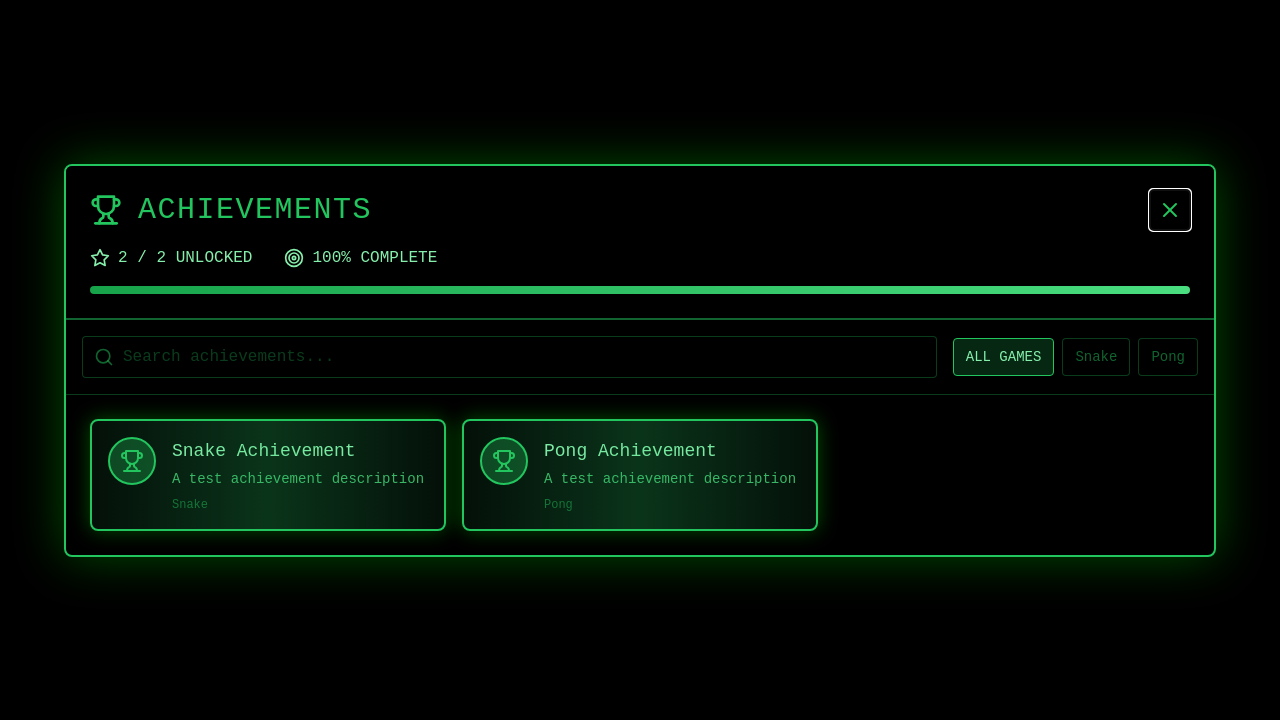
AchievementDisplay › Game Filter › shows all achievements when ALL GAMES clicked
The width and height of the screenshot is (1280, 720).
First filter by Snake
Click the button "Snake": (1096, 356) [1062,338,1130,376]
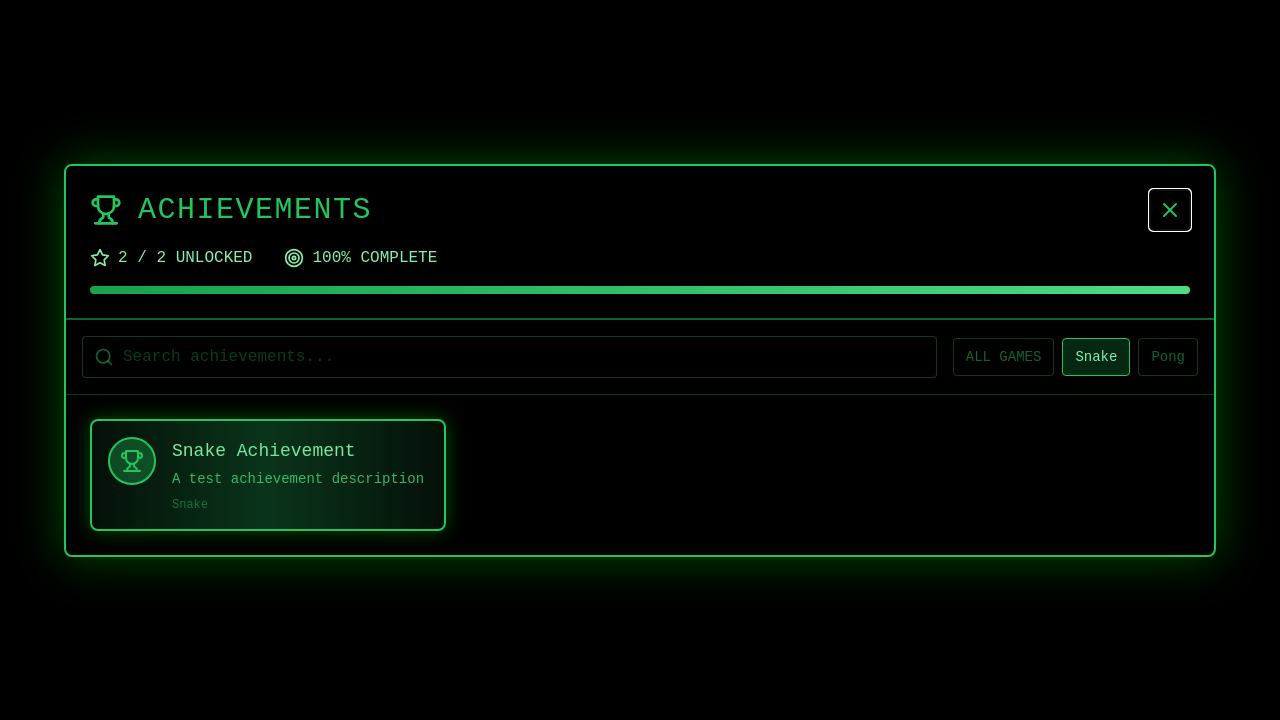
Then click ALL GAMES
Click the button "ALL GAMES": (1004, 356) [953,338,1054,376]
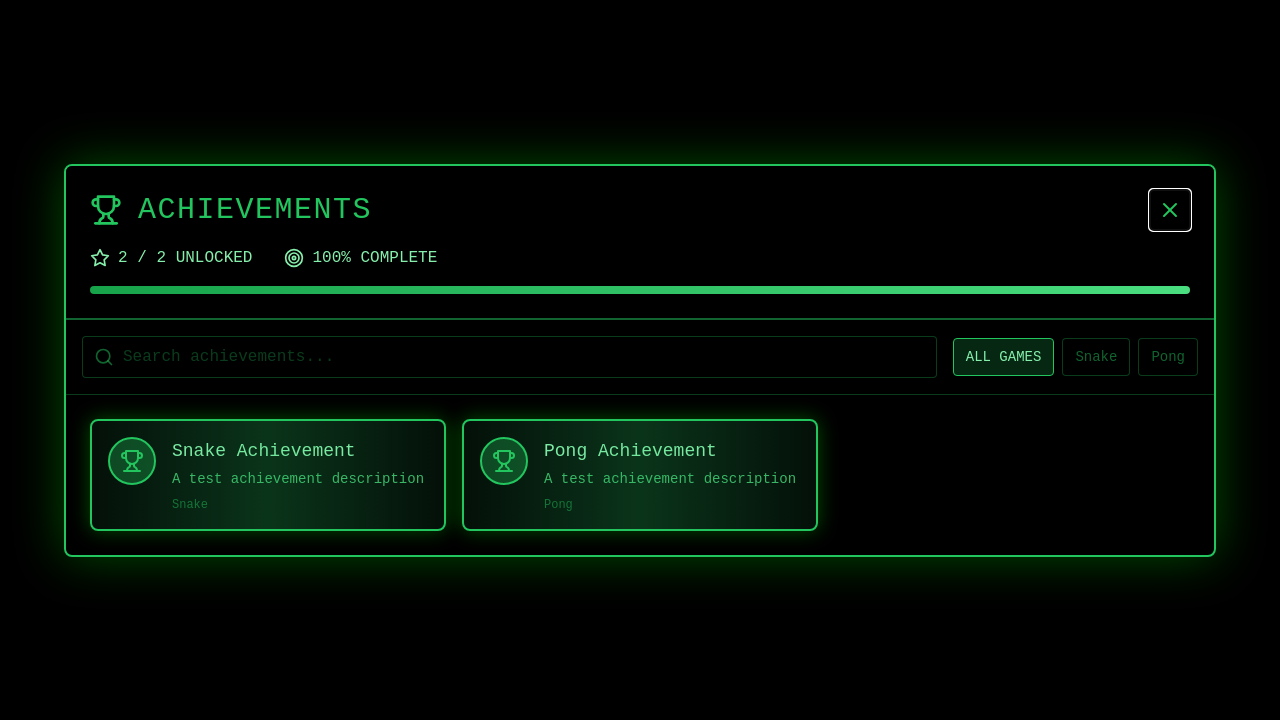
expect the heading "Snake Achievement" is shown: met, box [172,440,356,460]
expect the heading "Pong Achievement" is shown: met, box [544,440,717,460]
